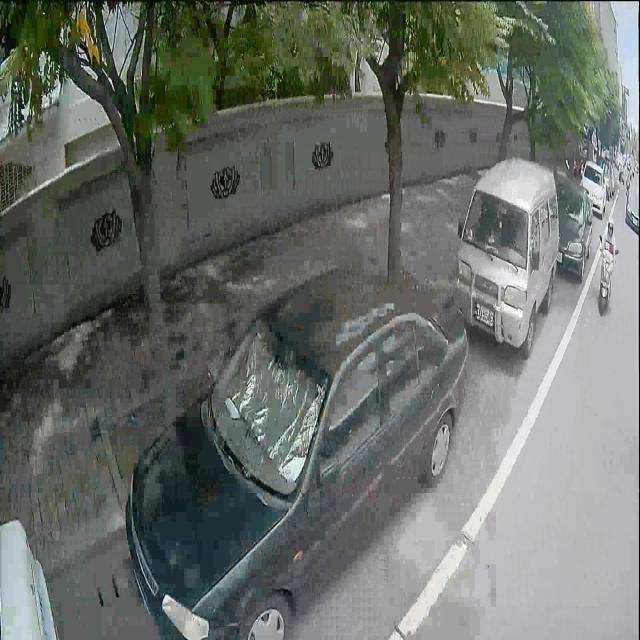person: (600, 220, 616, 260)
